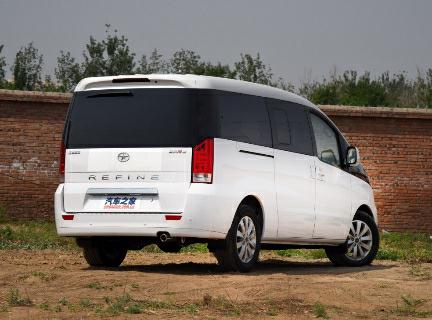江淮-瑞风M5: (43, 67, 393, 271)
